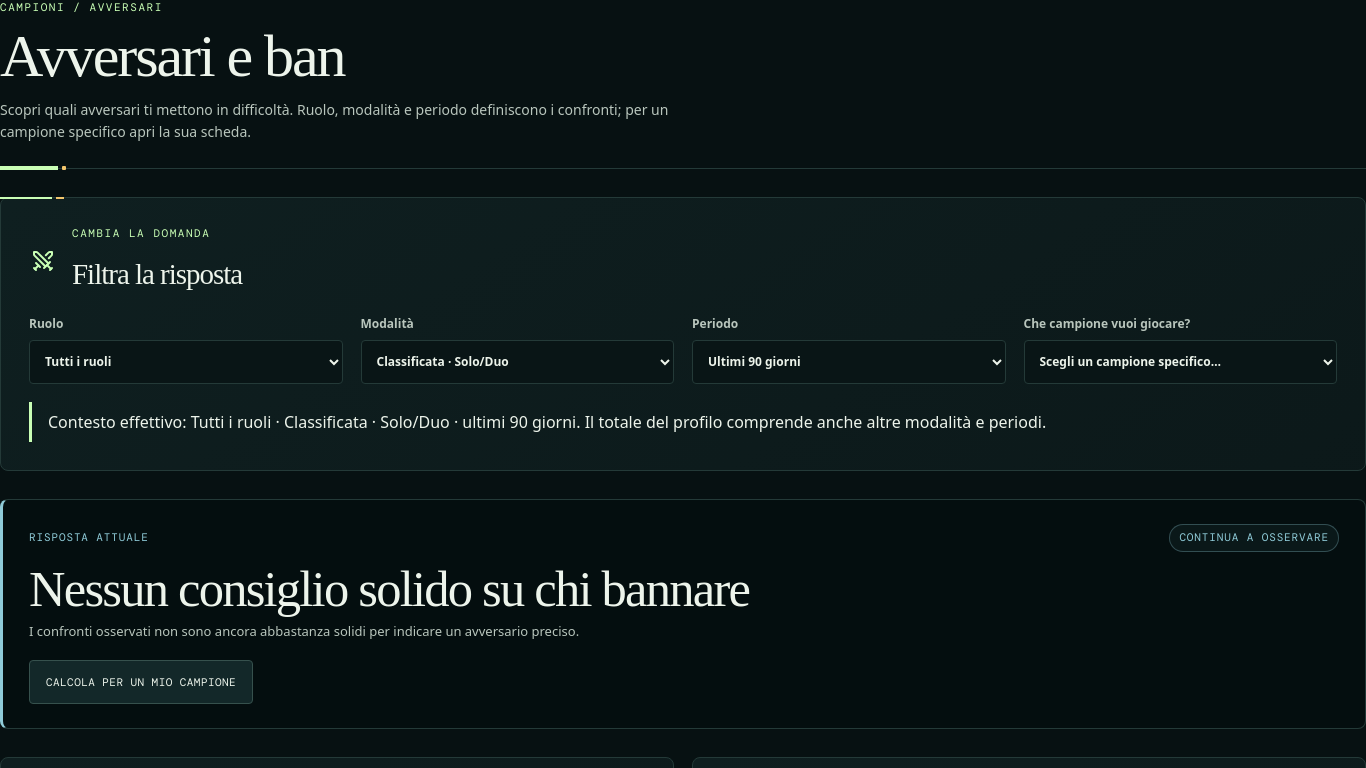
Test case: keeps mounted filters after a failed context change and clears the previous champion choices
This screenshot has width=1366, height=768.
Select "Corsia superiore" in the dropdown labelled "Ruolo": (186, 362) [29,340,342,384]
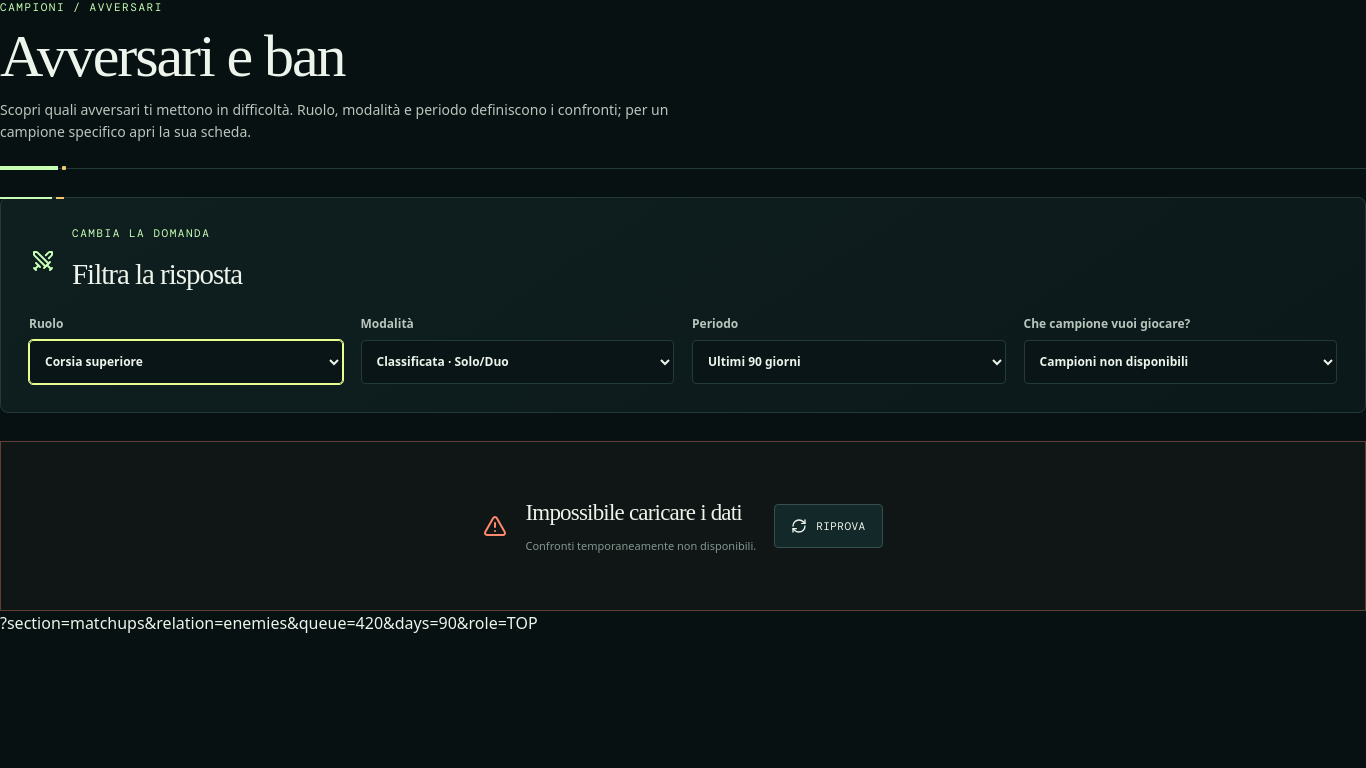
Now the dropdown labelled "Che campione vuoi giocare?" is disabled, box [1024,340,1337,384]
Now the message "Impossibile caricare i dati Confronti temporaneamente non disponibili. Riprova" is shown, box [0,441,1365,611]
Now the heading "Nessun consiglio solido su chi bannare" is gone
Select "Corsia centrale" in the dropdown labelled "Ruolo": (186, 362) [29,340,342,384]
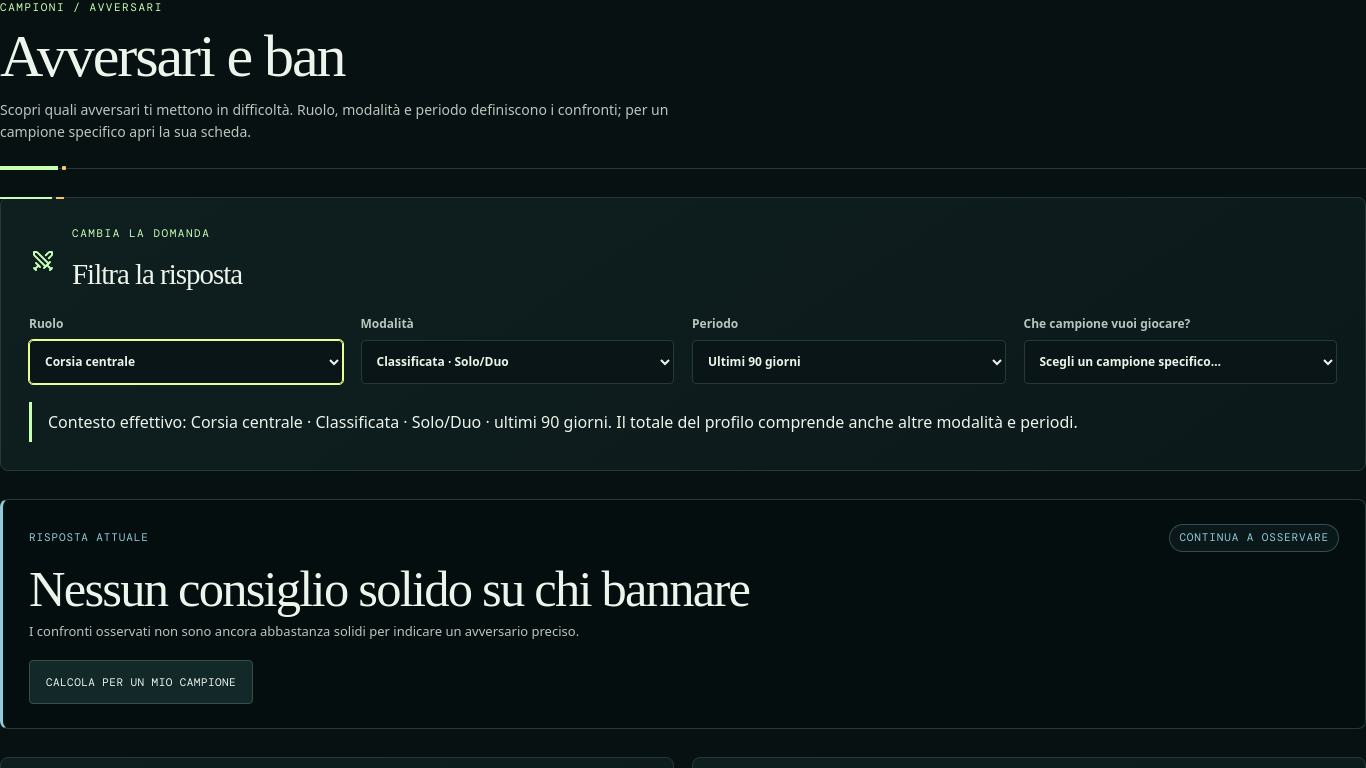
Now the dropdown labelled "Che campione vuoi giocare?" is enabled, box [1024,340,1337,384]
